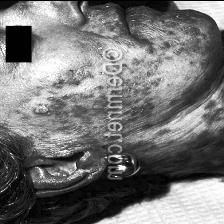Unclassified: (135, 49, 223, 163), (30, 76, 102, 154), (154, 16, 198, 62), (26, 0, 70, 22), (100, 24, 125, 42)
